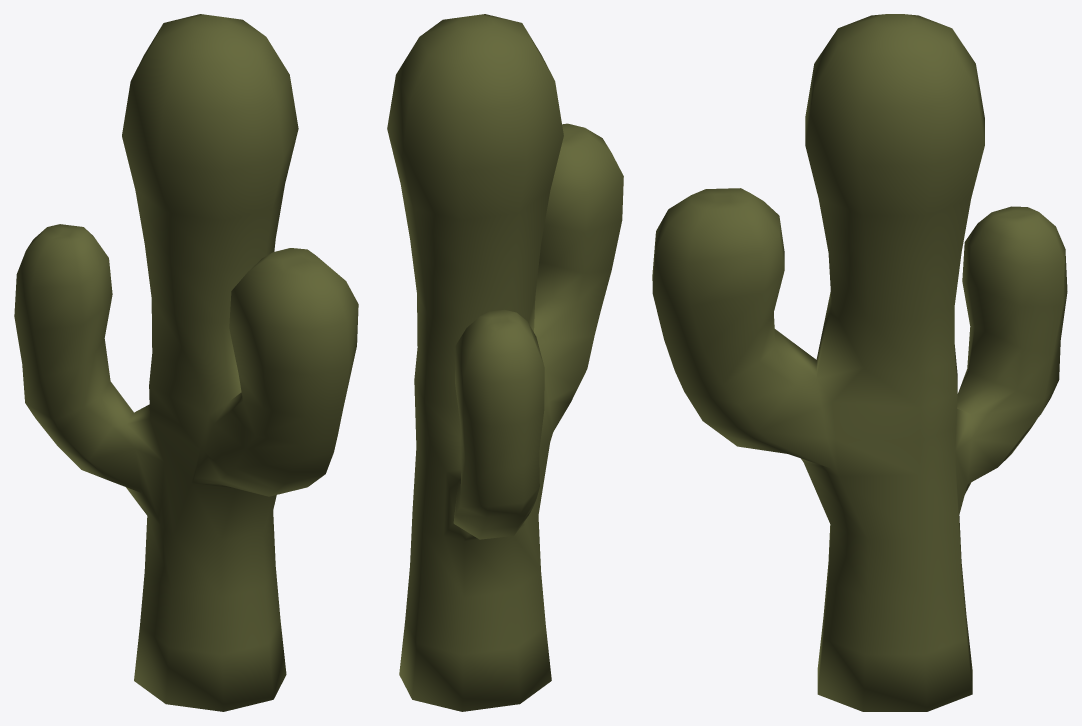
Rendered from Cactus01.fbx.
3 renders of one model, left to right at view 1: azimuth 30°, elevation 25°; view 2: azimuth 150°, elevation 25°; view 3: azimuth 270°, elevation 25°, orthographic.
Parts seen in each view (by area): view 1: Cactus; view 2: Cactus; view 3: Cactus.
Part boxes in pixels (left/top/right/bottom): Cactus: left=14, top=14, right=358, bottom=711; Cactus: left=387, top=14, right=623, bottom=711; Cactus: left=652, top=14, right=1067, bottom=711.
Bounding box in the file's own units: 153 × 494 × 281.
